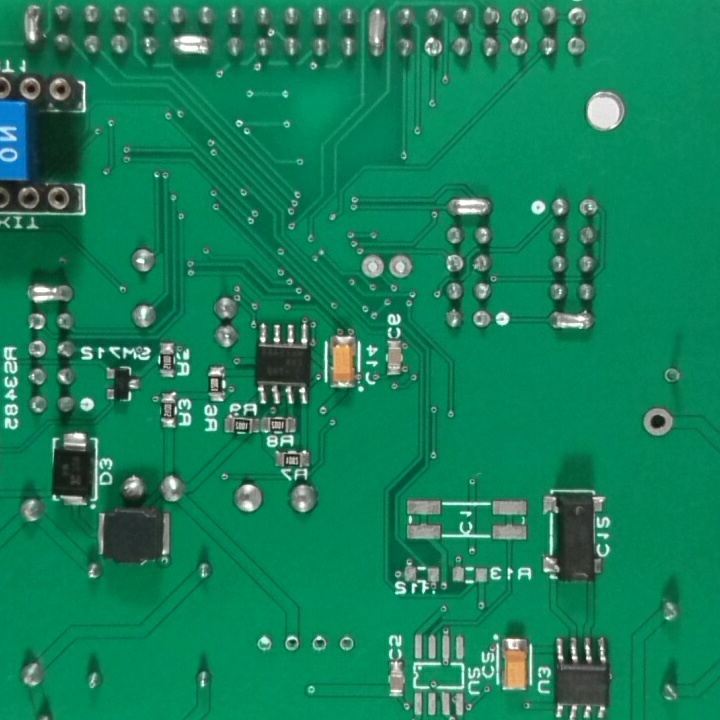F: (641, 406, 677, 440), (386, 253, 416, 284), (359, 254, 387, 280), (578, 197, 604, 223), (508, 3, 533, 30), (567, 6, 592, 32), (444, 250, 467, 276), (253, 631, 276, 657), (423, 32, 444, 60), (470, 309, 495, 332), (661, 363, 683, 387), (25, 340, 47, 362), (281, 632, 302, 655), (310, 633, 329, 654), (337, 633, 356, 654)
P: (442, 192, 494, 220), (364, 3, 389, 60), (24, 279, 78, 305), (549, 307, 596, 335), (169, 32, 215, 59), (21, 2, 44, 48)
